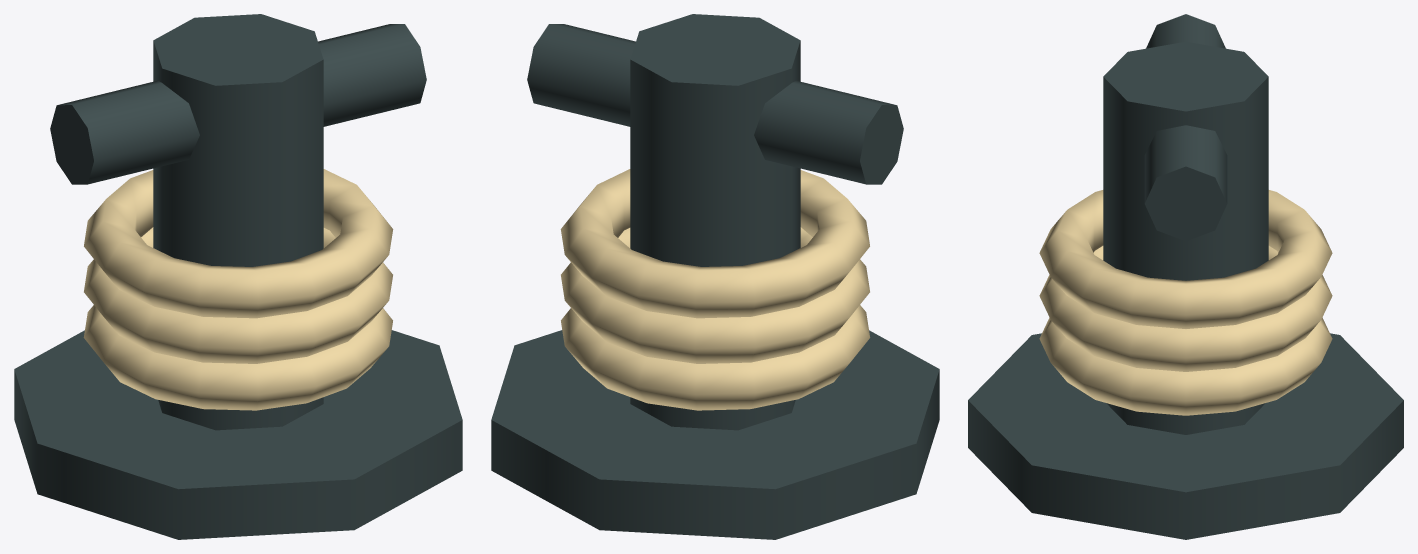
The model's file is mooring-bollard.glb.
3 views of the same model, side by side, from view 1: azimuth 30°, elevation 25°; view 2: azimuth 150°, elevation 25°; view 3: azimuth 270°, elevation 25° (orthographic). The views are drawn at different scales.
Visible parts, largest first — view 1: base, post, rope-turn-2, crossbar, rope-turn-1, rope-turn-0; view 2: base, post, rope-turn-2, crossbar, rope-turn-1, rope-turn-0; view 3: base, post, rope-turn-2, rope-turn-1, rope-turn-0, crossbar.
Part boxes in pixels (bbox=[...]): base: bbox=[14, 330, 462, 539]; post: bbox=[153, 14, 323, 430]; rope-turn-2: bbox=[84, 169, 393, 318]; crossbar: bbox=[50, 24, 426, 184]; rope-turn-1: bbox=[84, 227, 392, 363]; rope-turn-0: bbox=[83, 305, 392, 410]; base: bbox=[491, 330, 939, 539]; post: bbox=[630, 14, 800, 430]; rope-turn-2: bbox=[560, 169, 869, 318]; crossbar: bbox=[527, 24, 903, 184]; rope-turn-1: bbox=[561, 227, 869, 363]; rope-turn-0: bbox=[561, 305, 870, 410]; base: bbox=[968, 333, 1403, 539]; post: bbox=[1103, 41, 1268, 434]; rope-turn-2: bbox=[1039, 190, 1332, 328]; rope-turn-1: bbox=[1039, 246, 1332, 371]; rope-turn-0: bbox=[1039, 317, 1332, 415]; crossbar: bbox=[1144, 14, 1227, 241].
Size of the model in its own units: 0.58 by 0.545 by 0.58.
